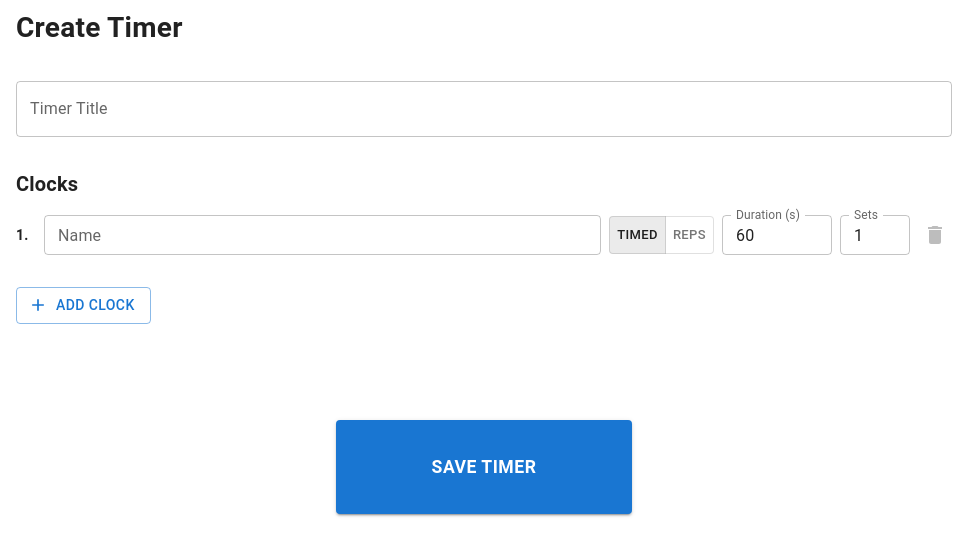
Test: CreateTimer › shows Saving... text while request is in progress
Type "My Routine" into the field labelled "Timer Title" at (484, 109), box [16, 81, 952, 137]
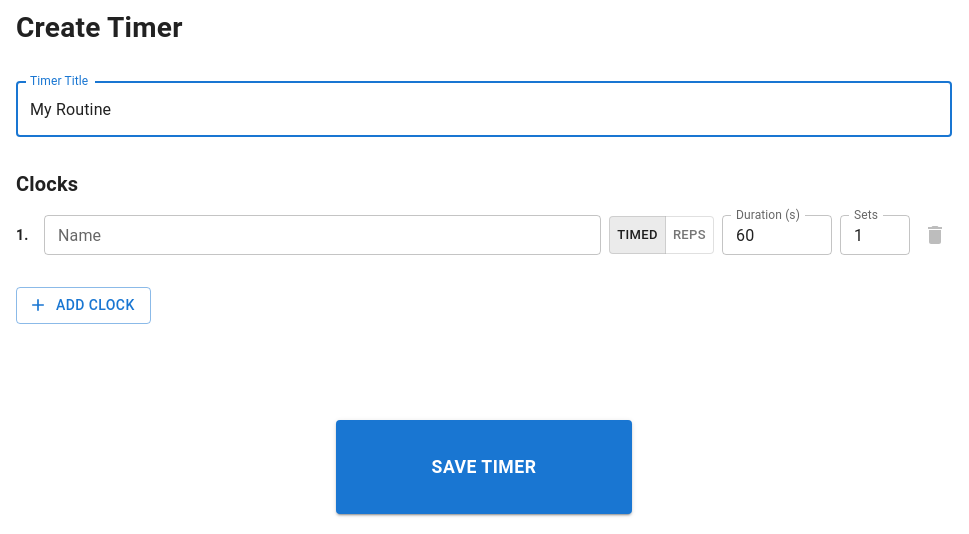
Type "Stretch A" into the field labelled "Name" at (323, 235), box [44, 215, 601, 255]
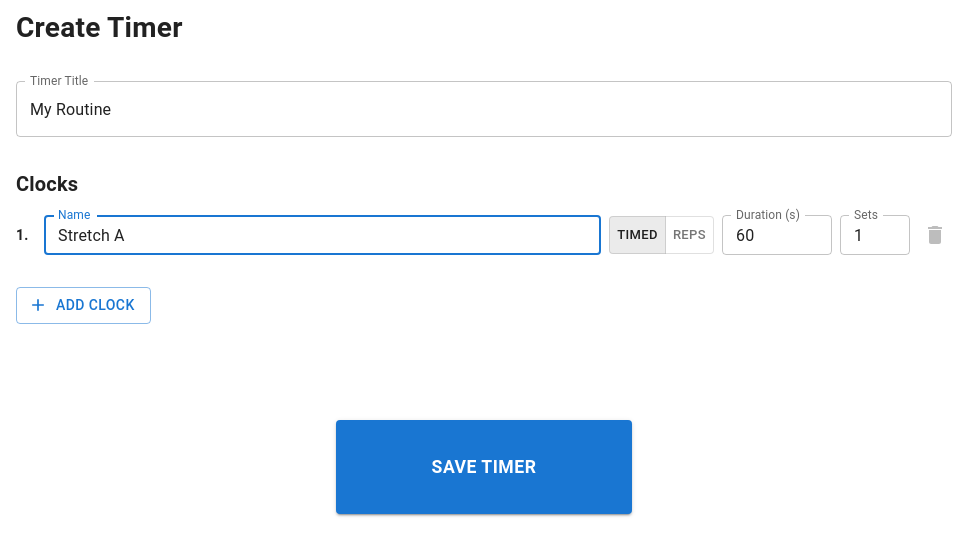
Click the button "Save Timer" at (484, 467), box [336, 420, 632, 514]
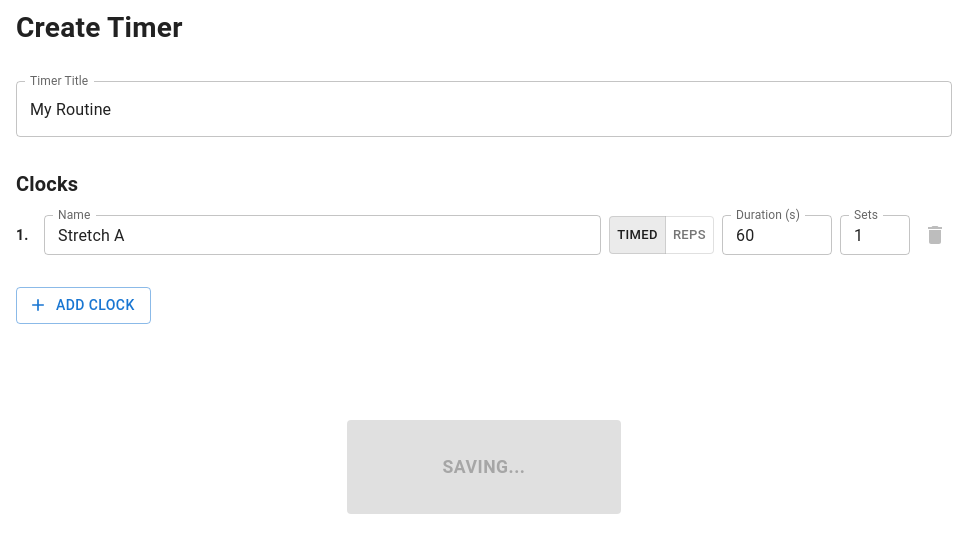
Result: the button "Saving..." is shown at [346, 420, 622, 514]
